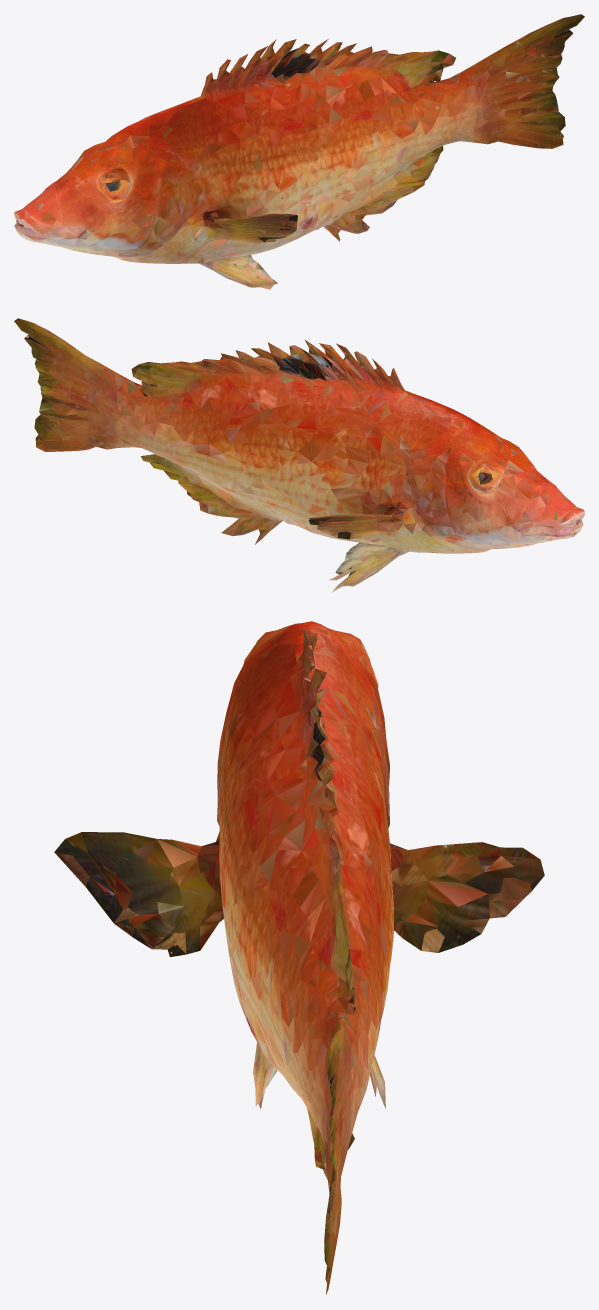
File: wrasse.glb
3 views of the same model, one above another, from view 1: azimuth 30°, elevation 25°; view 2: azimuth 150°, elevation 25°; view 3: azimuth 270°, elevation 25° (orthographic). The views are drawn at different scales.
Visible parts, largest first — view 1: body; view 2: body; view 3: body.
Boxes of the visible parts, left/top/right/bottom form: body: left=14, top=14, right=584, bottom=289; body: left=14, top=318, right=584, bottom=592; body: left=54, top=621, right=544, bottom=1294.
Bounding box in the file's own units: 0.9843 × 0.3865 × 0.3701.
Materials: 3 (3 with a texture image).
